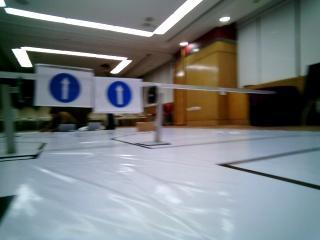straight: (36, 64, 90, 107), (92, 74, 142, 113)
